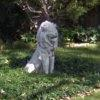Statue: (23, 9, 67, 94)
